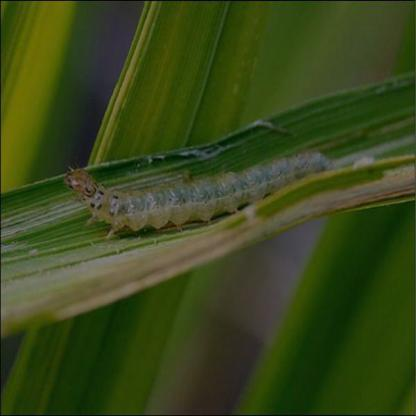leaf-folder: (47, 136, 351, 237)
